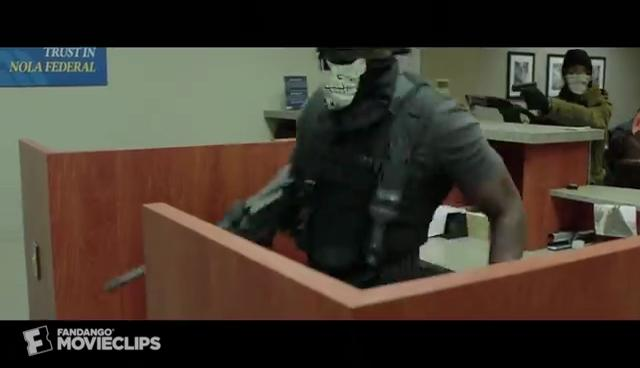criminal: (101, 48, 528, 294), (465, 48, 614, 184)
weapon: (102, 162, 294, 294), (466, 92, 533, 123), (513, 82, 546, 101)
